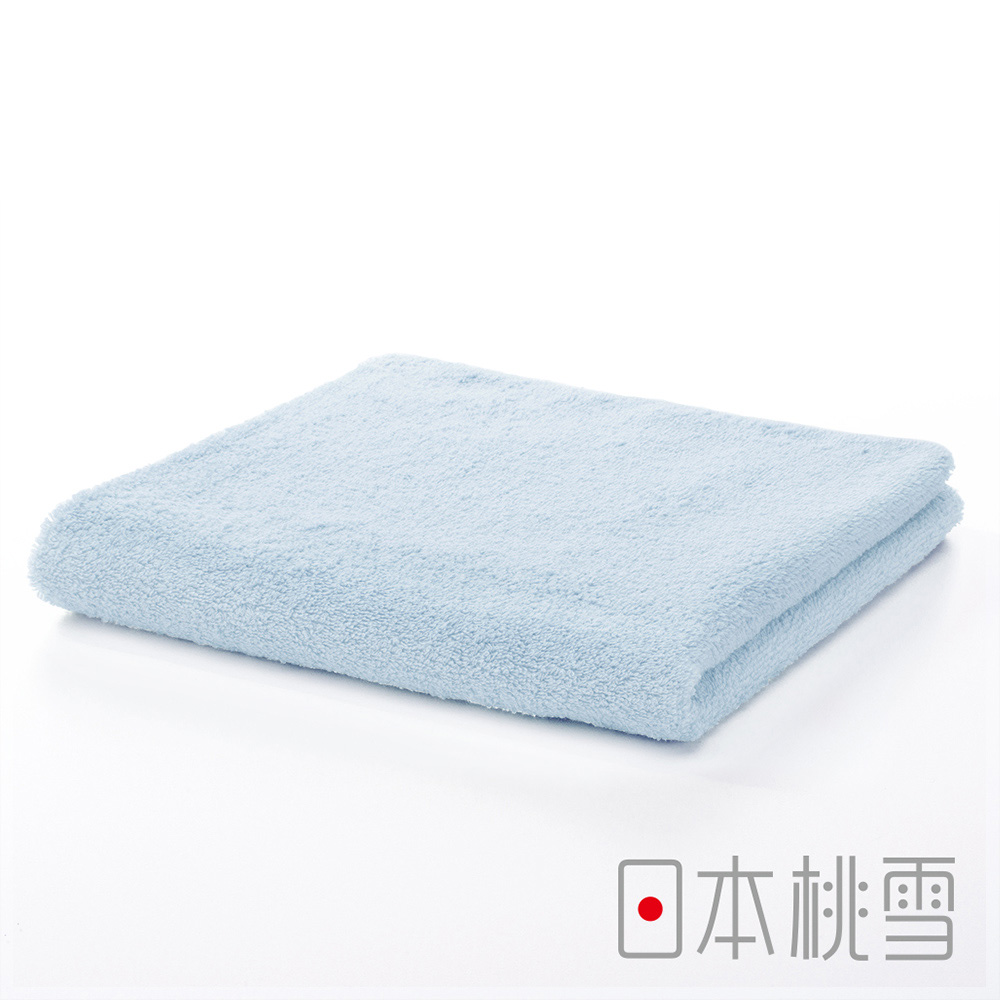flexible: (40, 355, 973, 747)
